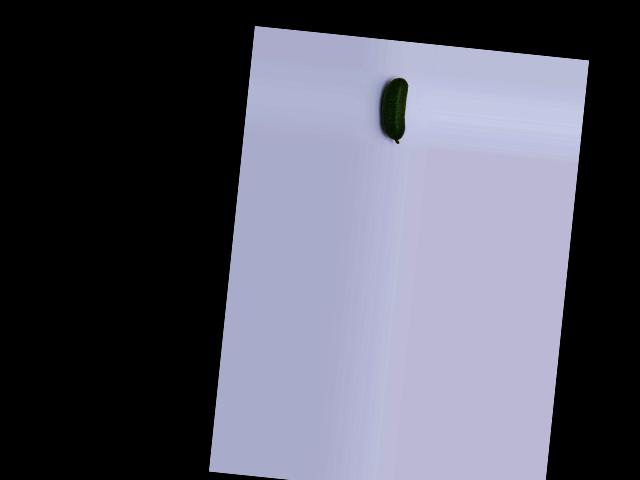cucumber: (377, 76, 409, 144)
